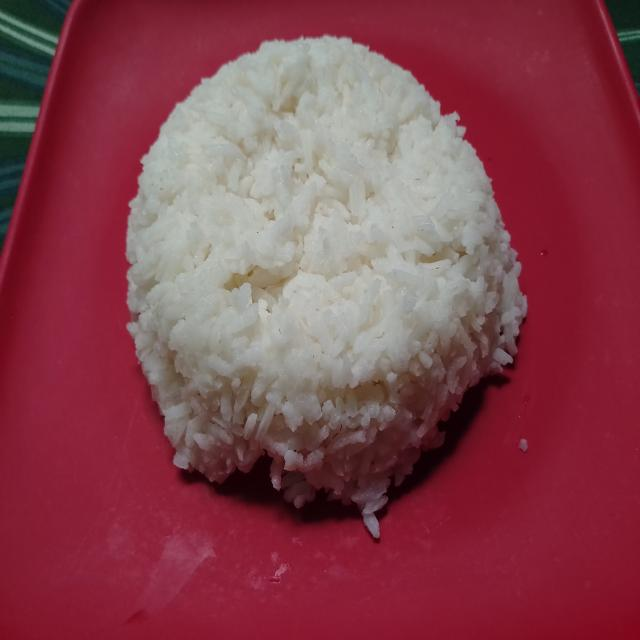Chicken -Chicken Inasal-: (121, 35, 520, 503)
